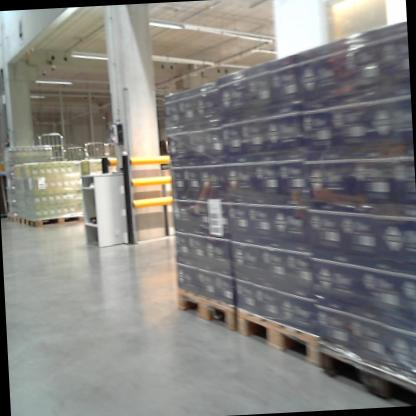pallet: (315, 330, 416, 409), (232, 300, 322, 380), (173, 281, 236, 337), (27, 212, 85, 230), (16, 214, 30, 228), (7, 212, 19, 223)
